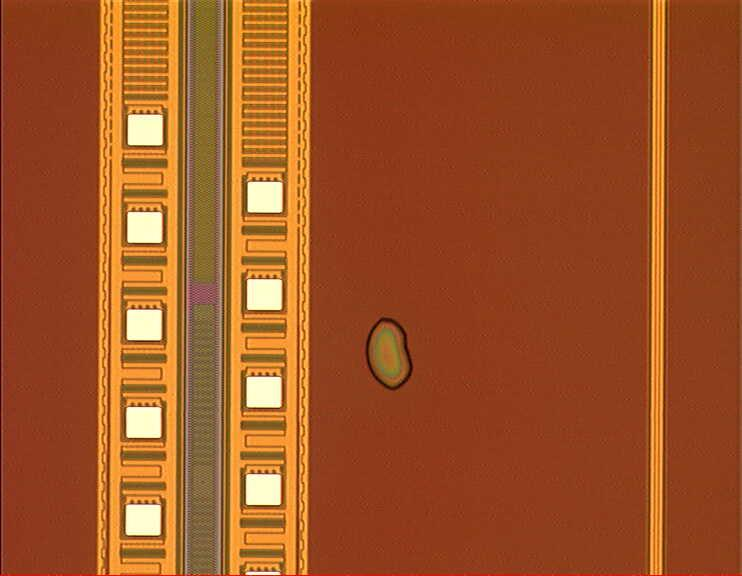PIQ PARTICLE: (364, 314, 418, 395)
